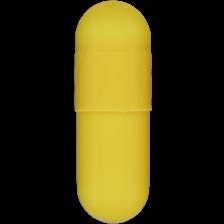63187-372: (0, 0, 224, 224)
